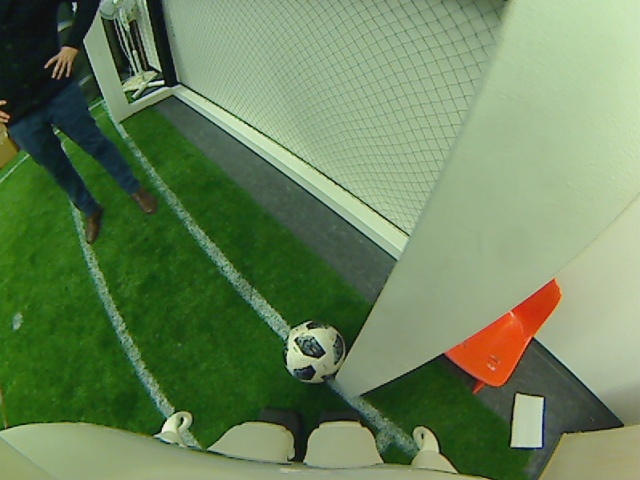ball: (283, 319, 346, 386)
